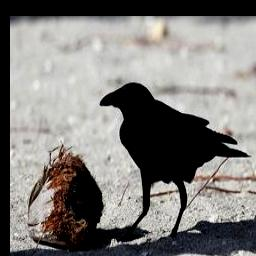Crow: (98, 81, 252, 243)
